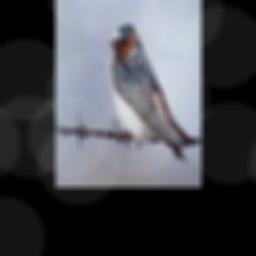Swallow: (110, 23, 193, 166)
